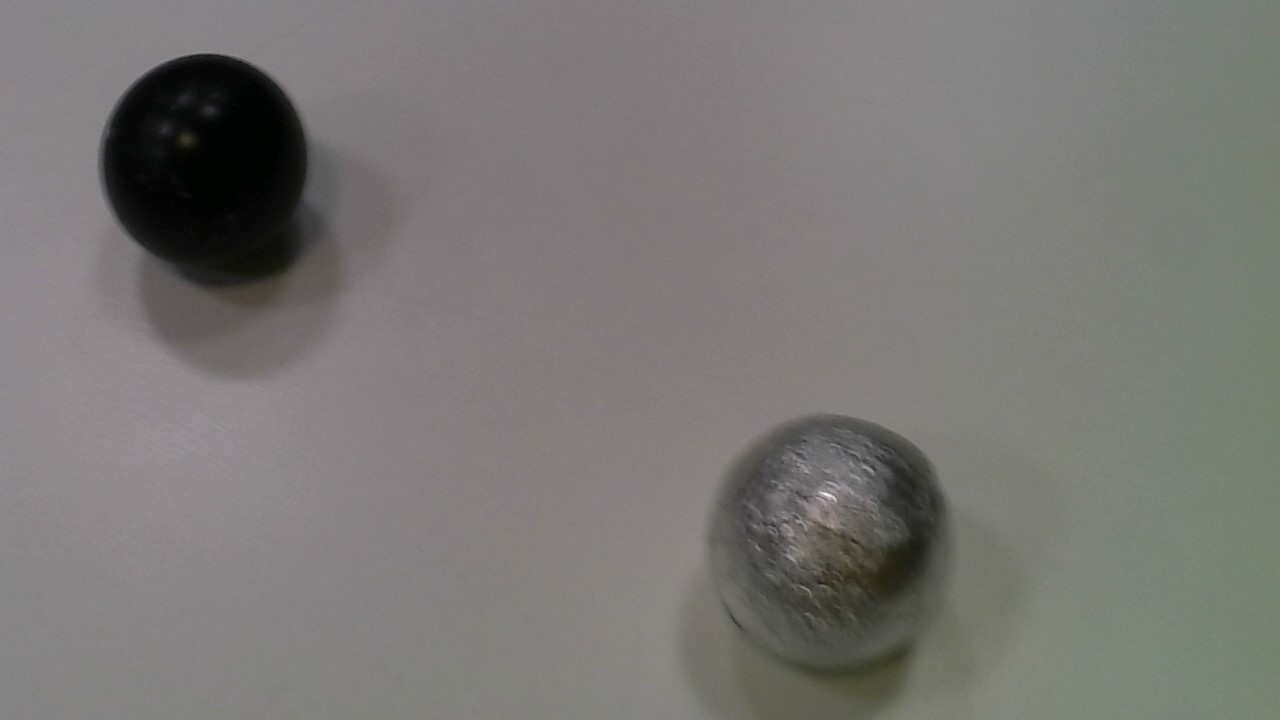black_ball: (88, 49, 312, 269)
silver_ball: (701, 404, 956, 675)
